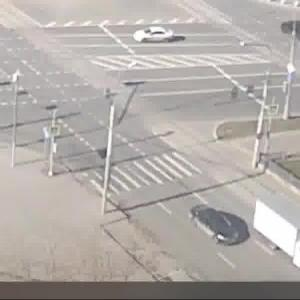car: (251, 190, 300, 266), (186, 205, 243, 251), (130, 24, 182, 47)
